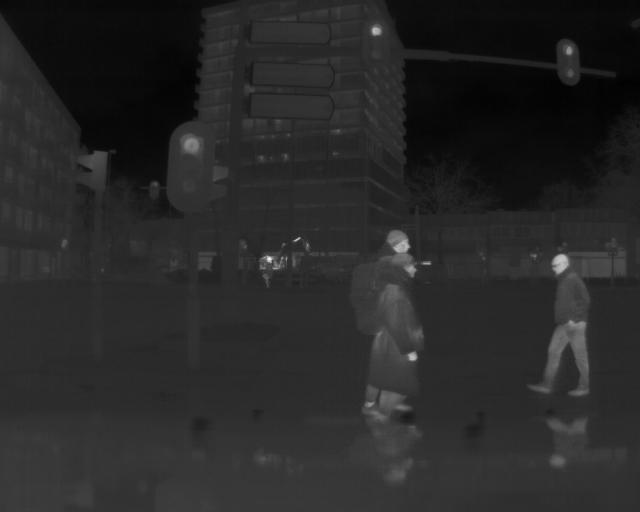person: (526, 249, 599, 396), (359, 253, 420, 421)
